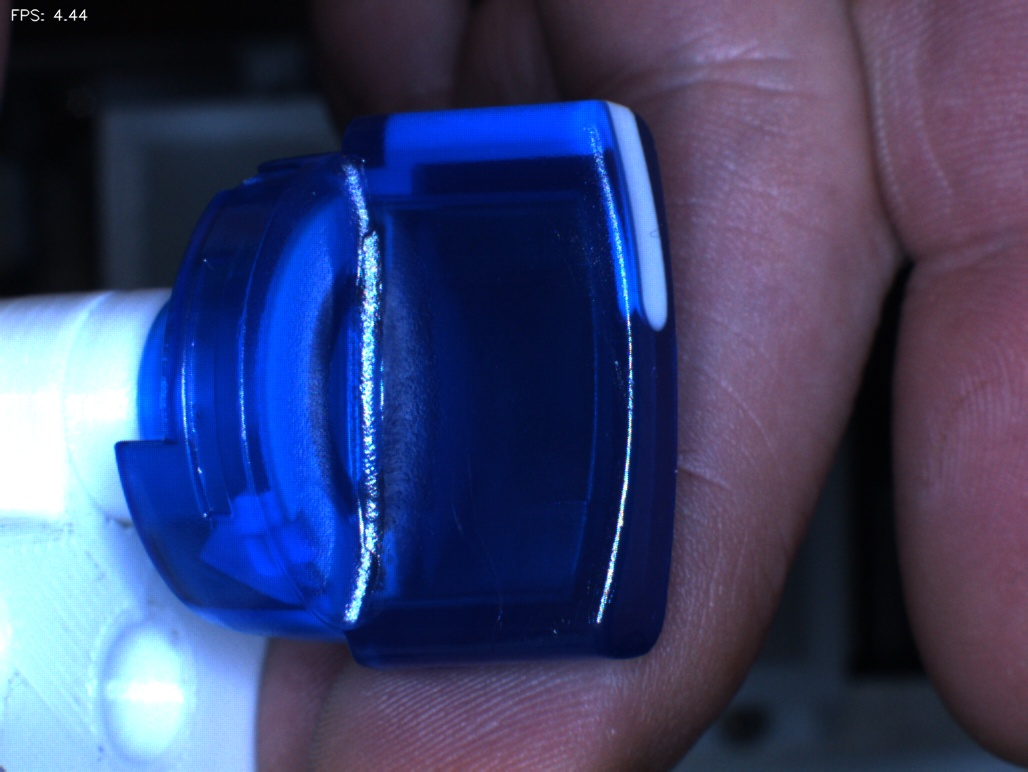Givrage: (436, 466, 520, 636)
